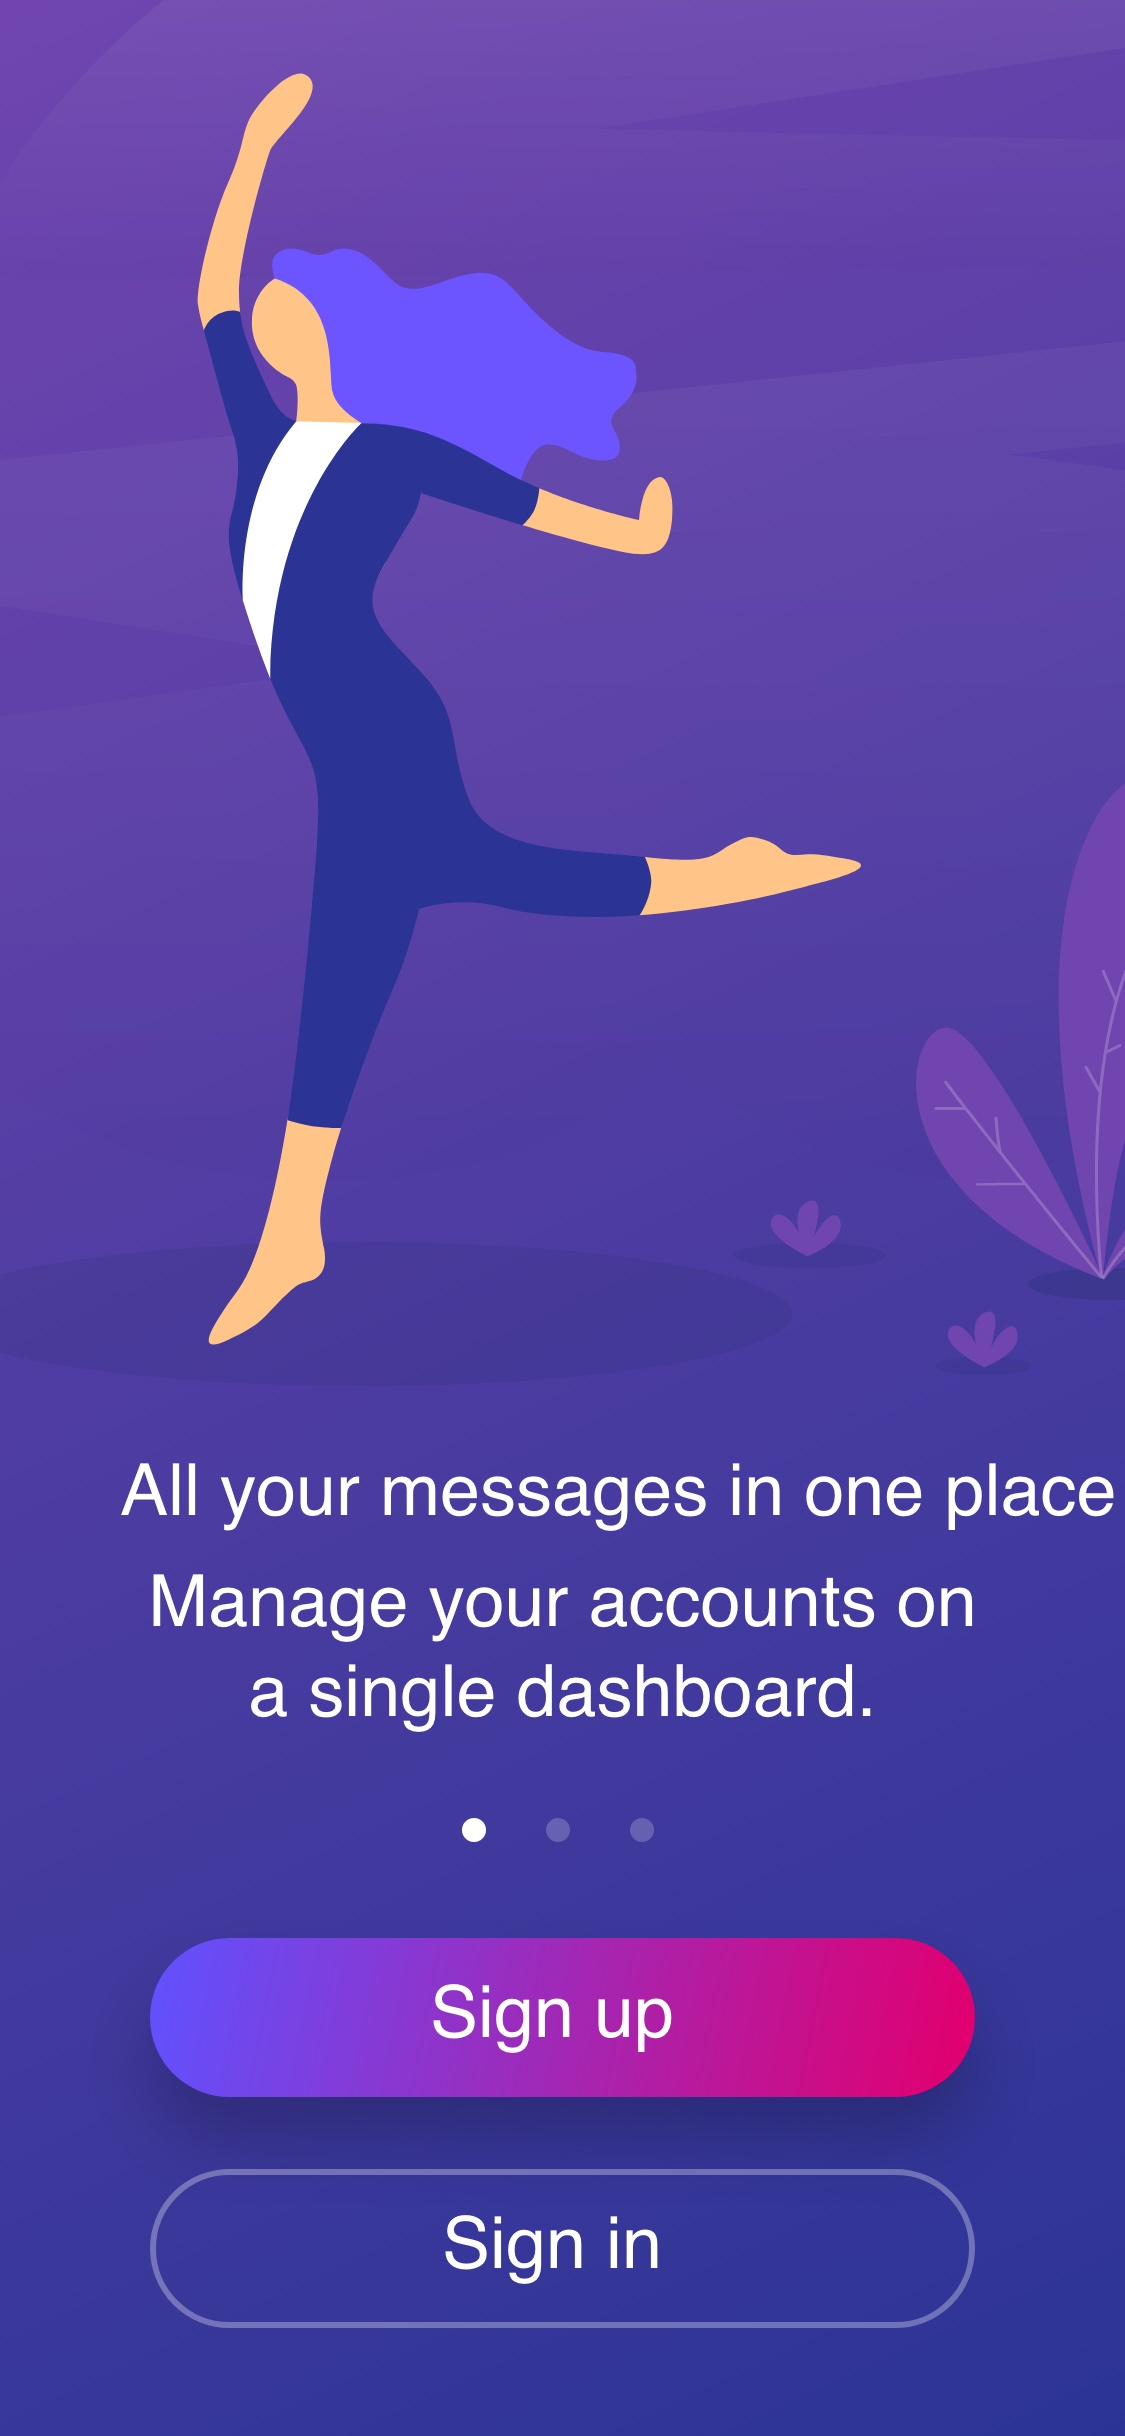Image: (2, 71, 1125, 1397)
PageIndicator: (461, 1818, 656, 1844)
Text: (118, 1460, 1116, 1735)
TextButton: (149, 2167, 977, 2329), (149, 1937, 976, 2099)
